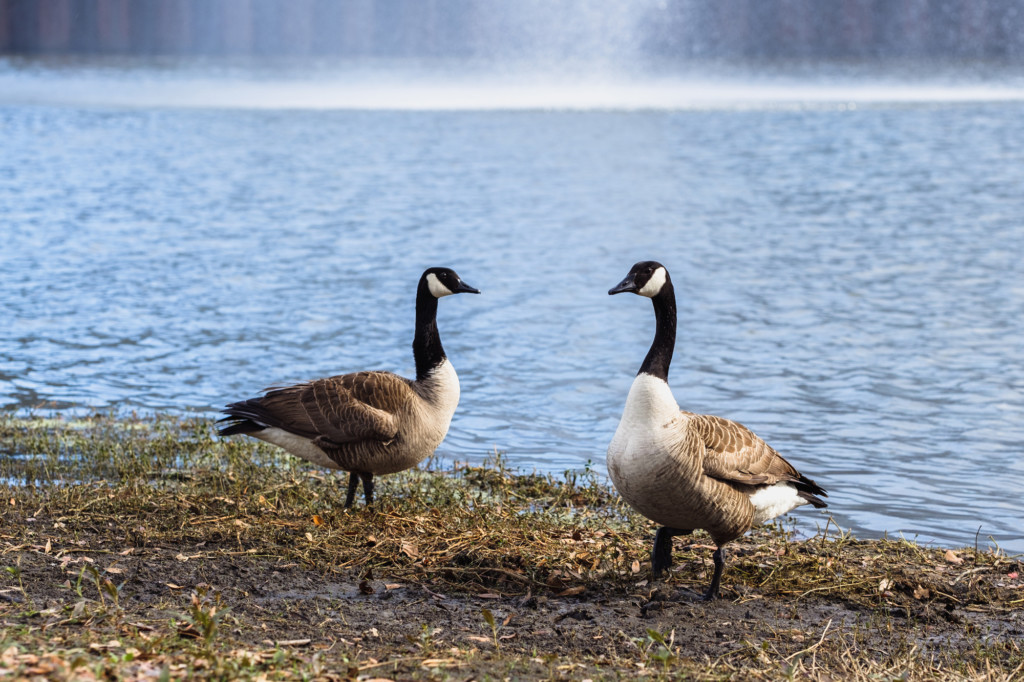goose: (603, 258, 831, 600), (212, 266, 480, 511)
